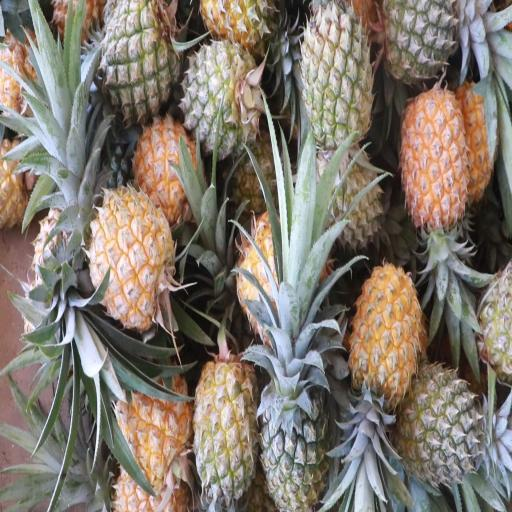Pineapple - v8 v1: (86, 180, 177, 337), (350, 267, 424, 418), (397, 87, 468, 240), (191, 355, 262, 497), (130, 110, 206, 230), (192, 0, 278, 64)
